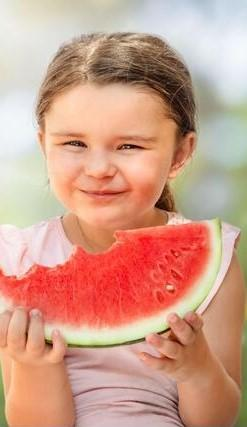Healthy: (32, 25, 209, 231)
